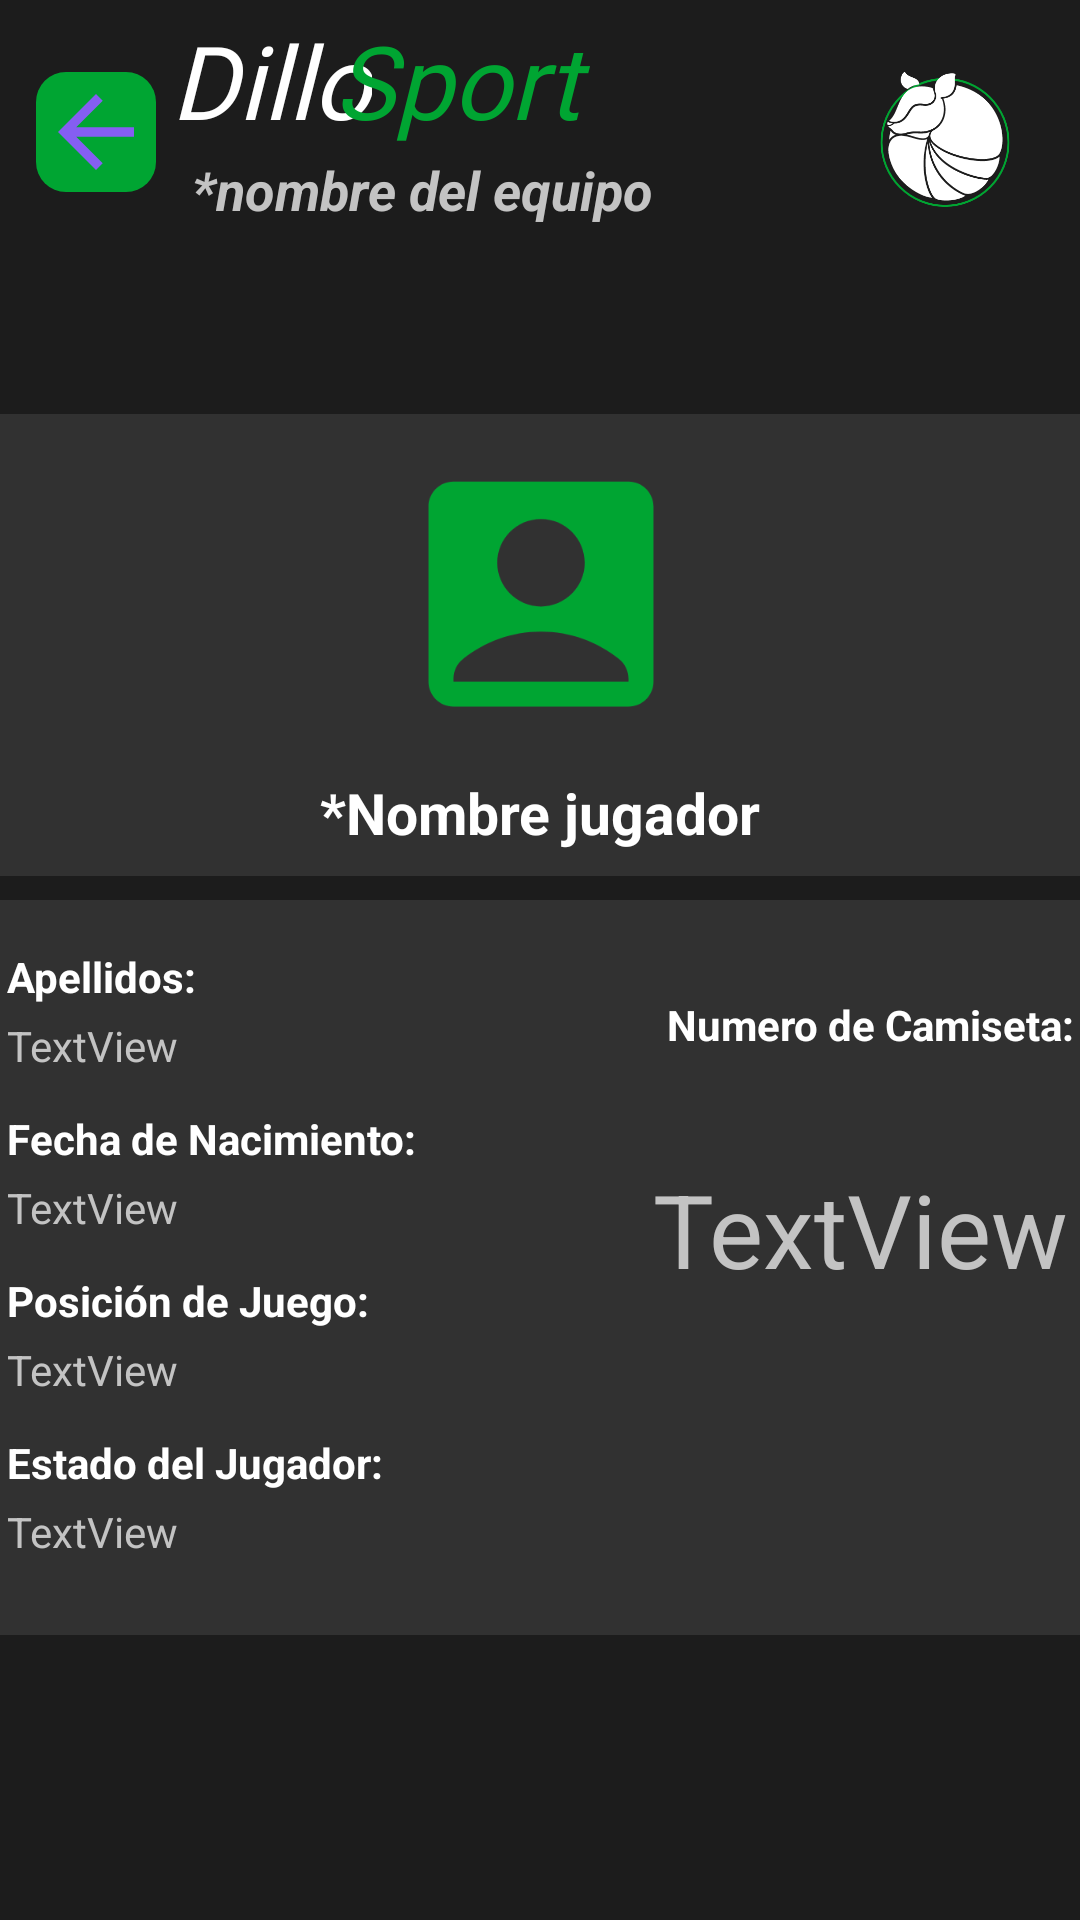

Where to tap for icons on this 1080x1920 app screen, as (x=x, y=y):
jugadores: (x=541, y=594)
